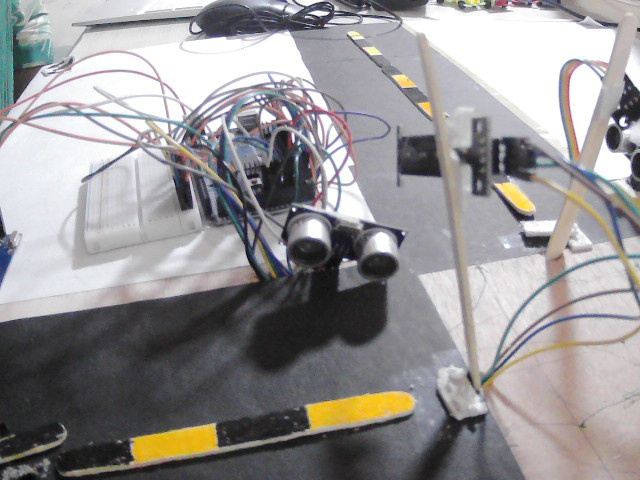aruco_marker: (40, 55, 80, 78)
black_strip: (224, 404, 306, 447), (56, 435, 133, 471), (0, 423, 59, 461), (402, 84, 427, 102), (368, 54, 390, 66), (351, 35, 374, 45), (378, 60, 394, 72)
mixed_lane: (59, 383, 415, 471), (348, 26, 448, 119), (2, 416, 75, 458), (498, 182, 532, 213)
traffic_light: (392, 117, 528, 191)
uno_breadboard: (80, 108, 316, 237), (282, 205, 418, 283), (618, 151, 640, 184)
yellow_strip: (308, 390, 412, 432), (130, 420, 222, 464), (495, 183, 531, 213), (390, 72, 412, 92), (418, 96, 432, 114), (362, 42, 380, 56), (350, 24, 364, 36)
